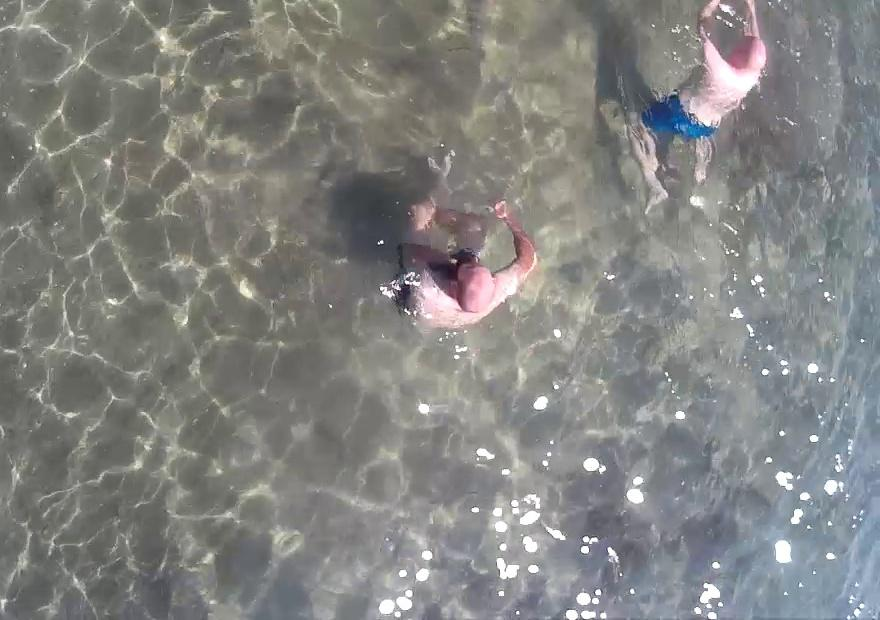human: (388, 168, 534, 355), (652, 0, 770, 231)
